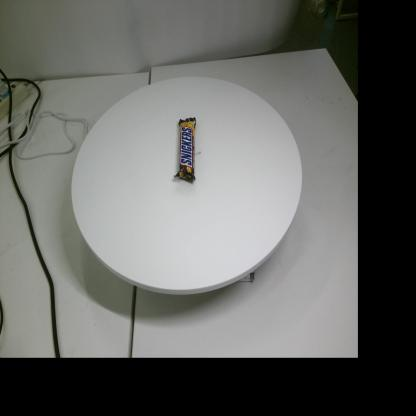Chocolate: (174, 117, 196, 181)
